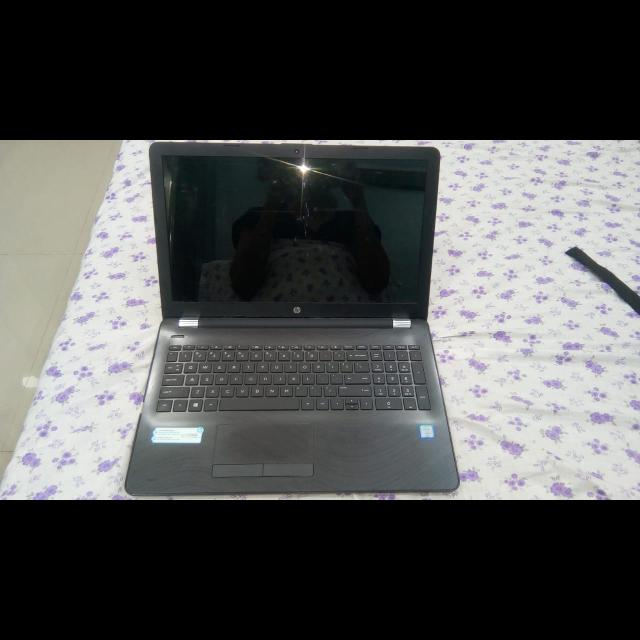Laptop: (122, 142, 470, 500)
